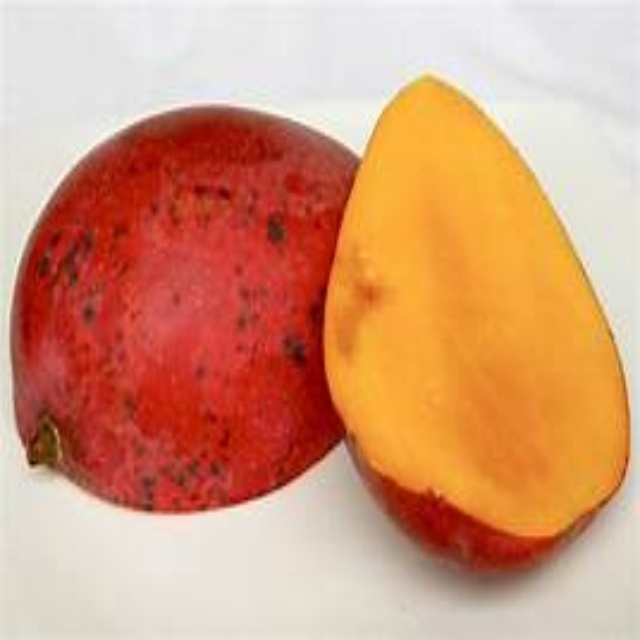mango: (323, 75, 639, 574), (16, 99, 357, 516)
